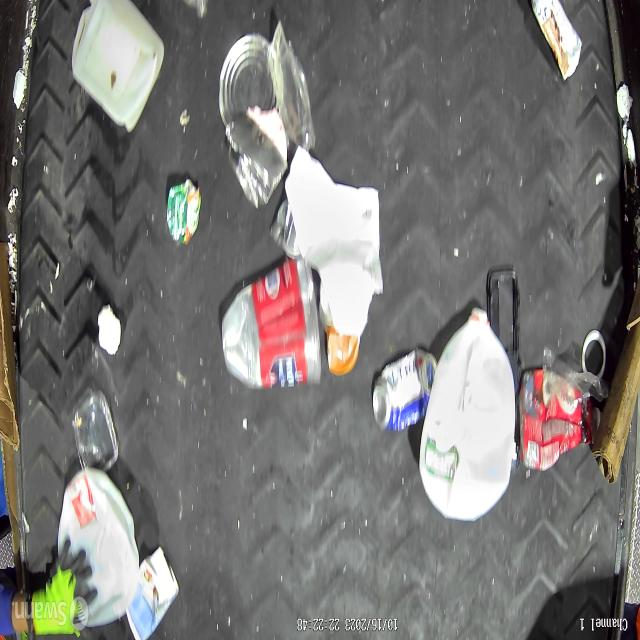can: (218, 33, 278, 132), (372, 342, 436, 432)
milk_jug: (418, 312, 518, 522), (57, 468, 139, 628), (71, 0, 164, 134)
